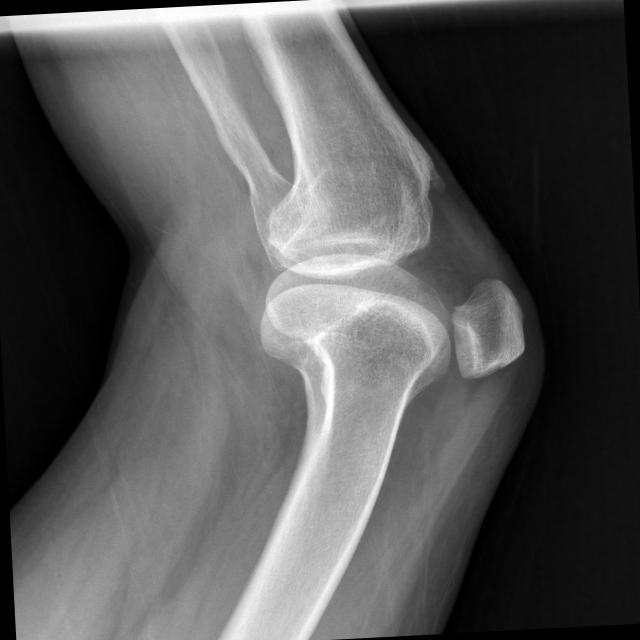Knee: (250, 170, 530, 398)
